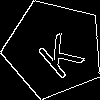K: (29, 24, 86, 81)
